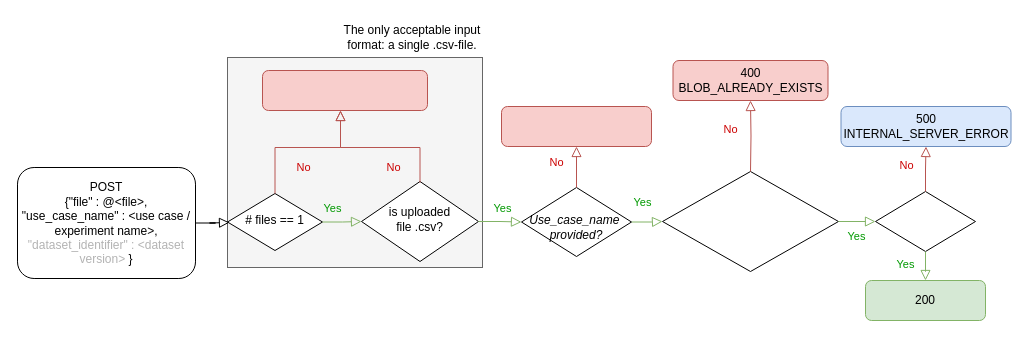
The diagram is 1029 pixels wide and 338 high, and some of its shapes have lost their labels. The box of each missing label's shape, as (x1, y1, x2, y2) in pixels:
400 INPUT_FORMAT_WRONG: (262, 70, 428, 110)
400 NO_REQUIRED_PARAM: (500, 106, 652, 146)
Upload successful?: (874, 190, 976, 252)
Use_case_name : dataset_identifier combination is unique?: (662, 170, 838, 272)
